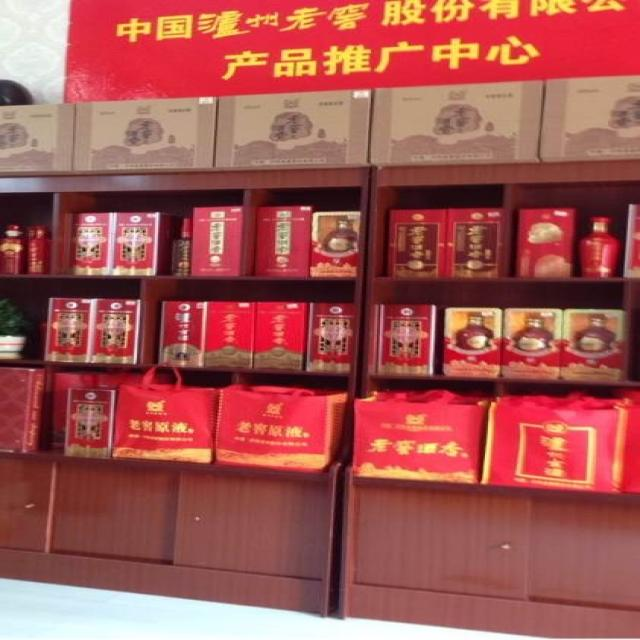box: (368, 79, 546, 167), (214, 89, 371, 172), (74, 96, 217, 176), (540, 75, 640, 162), (0, 365, 67, 453), (0, 103, 74, 177), (515, 207, 585, 277), (562, 309, 626, 381), (111, 213, 181, 276), (500, 309, 562, 379), (375, 304, 435, 375), (254, 205, 313, 276), (386, 208, 445, 278), (444, 307, 502, 377), (445, 207, 500, 278), (252, 301, 309, 369), (64, 385, 117, 457), (192, 206, 242, 276), (157, 300, 208, 368), (93, 294, 140, 364), (306, 302, 353, 372), (205, 301, 254, 367), (46, 297, 94, 364), (312, 210, 360, 276), (64, 213, 112, 276), (625, 203, 640, 278)
